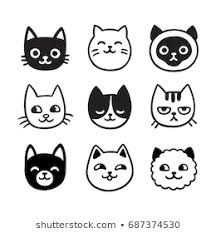cat: (141, 19, 203, 74), (11, 78, 73, 131), (146, 141, 203, 197), (80, 19, 136, 74), (16, 140, 71, 196), (81, 140, 137, 195), (18, 16, 71, 74), (145, 80, 202, 131), (82, 82, 139, 133)
